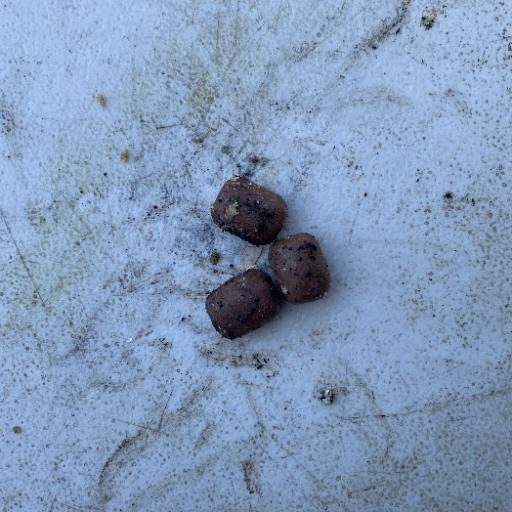Waste: (203, 174, 331, 341), (204, 267, 282, 341), (208, 174, 288, 246), (266, 230, 331, 304)
